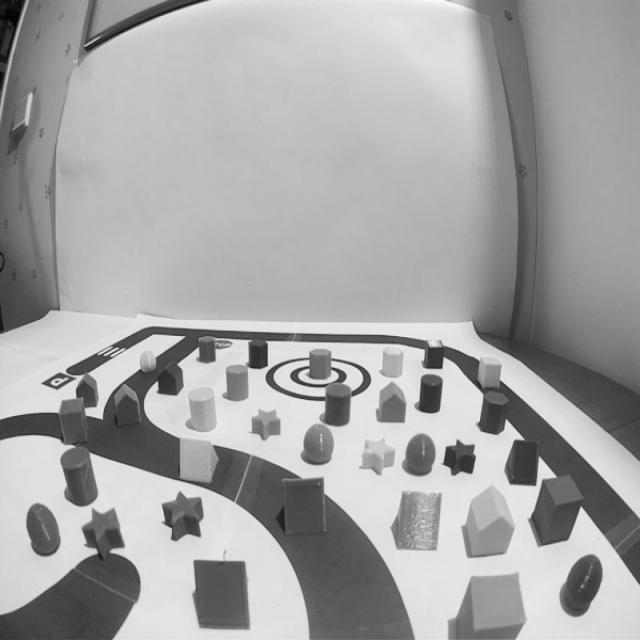ball: (566, 552, 604, 611), (24, 501, 62, 559), (301, 419, 336, 468), (403, 430, 437, 480), (137, 348, 158, 374)
cockade: (266, 354, 374, 402)
cube: (453, 570, 527, 640), (529, 473, 586, 550), (56, 396, 90, 447), (475, 354, 502, 390), (423, 335, 446, 372)
cylinder: (58, 444, 100, 505), (187, 384, 221, 434), (324, 382, 354, 428), (415, 373, 443, 415), (225, 361, 250, 405)
hexagon: (476, 386, 510, 437), (379, 344, 405, 380), (308, 346, 333, 380), (247, 337, 269, 371), (196, 334, 218, 366)
home: (463, 482, 515, 561), (376, 382, 410, 427), (114, 383, 144, 429), (156, 357, 186, 400), (73, 372, 100, 411)
leftTurn: (250, 466, 424, 640)
star: (155, 489, 209, 544), (78, 505, 124, 558), (357, 434, 397, 476), (249, 406, 283, 441)
stop: (441, 434, 478, 476)
triangle: (188, 556, 254, 634), (280, 474, 331, 538), (397, 486, 442, 558), (175, 435, 223, 488), (504, 435, 541, 489)
